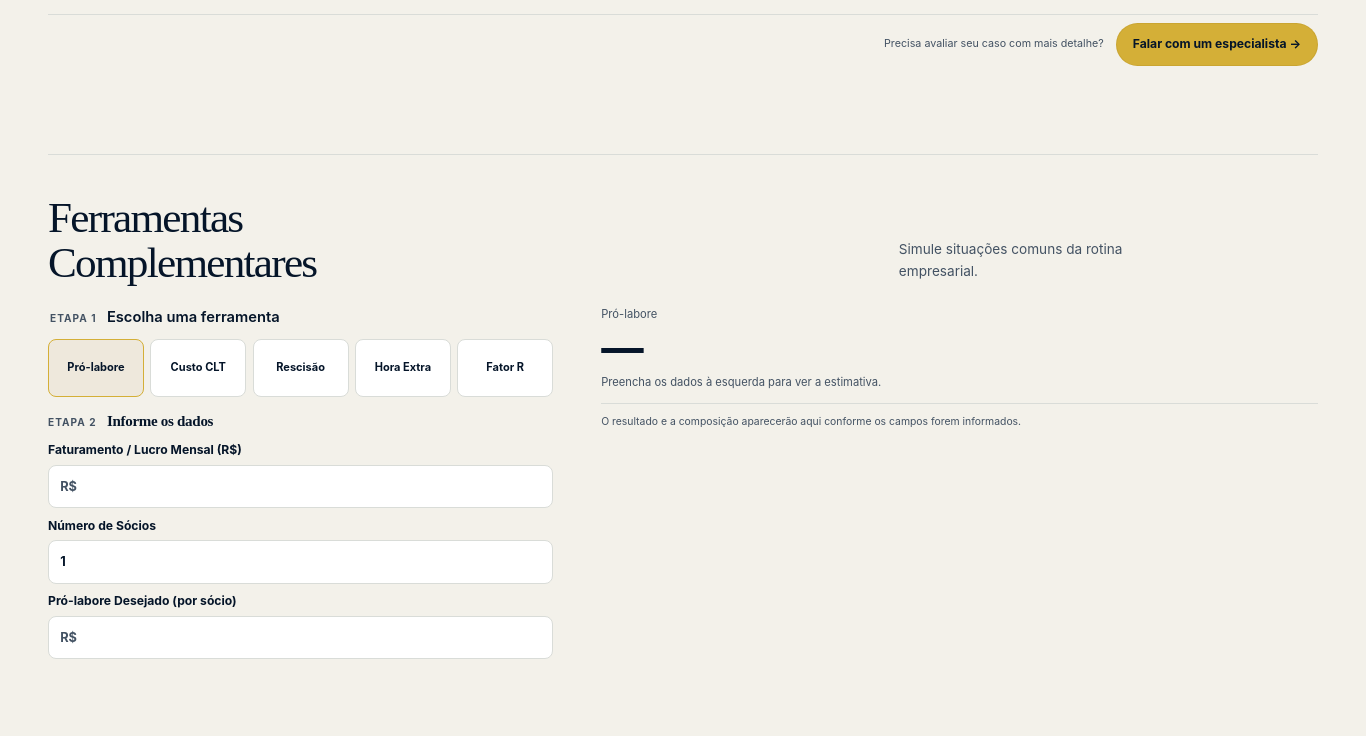
Test: Ferramentas Complementares › não desenha uma composição proporcional quando a folha supera a receita
(page scrolled)
Click the button "Fator R" at coordinates (505, 368), box 457,339 -> 553,397
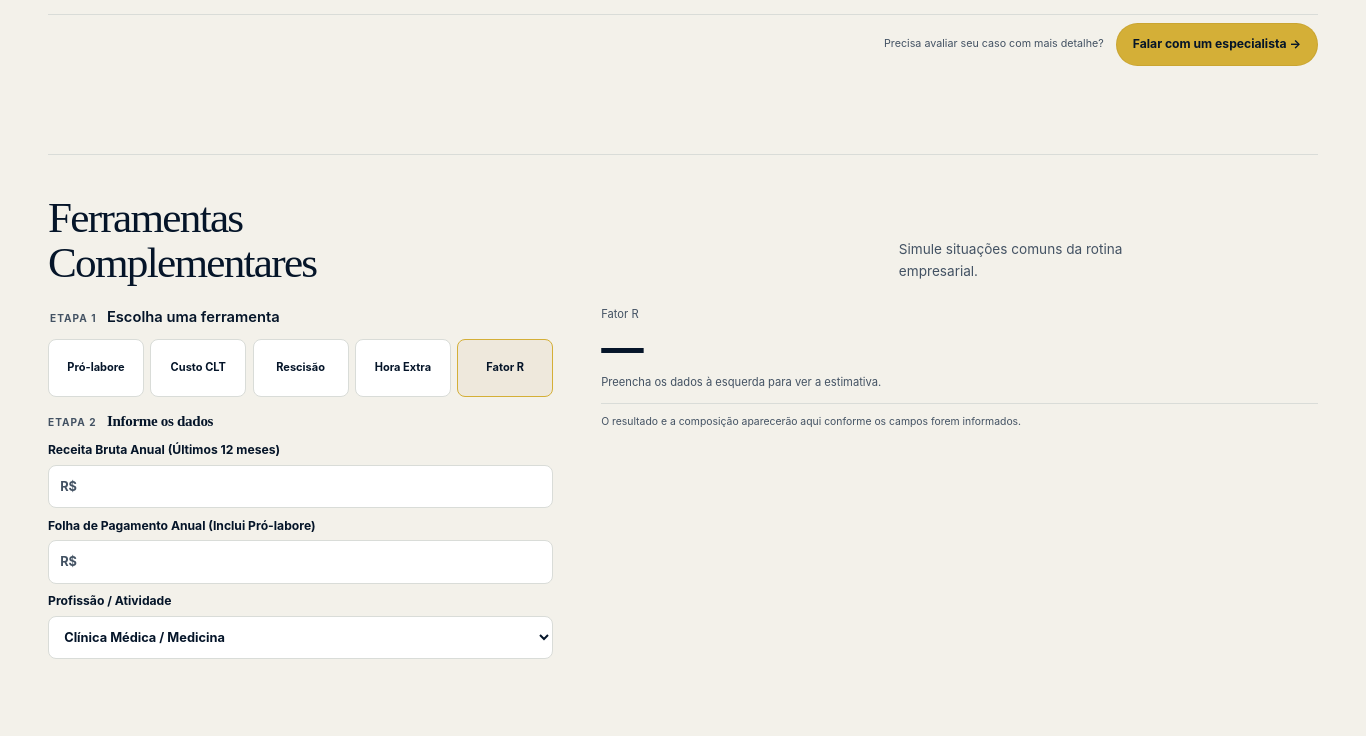
Type "10000000" into the field labelled "Receita Bruta Anual (Últimos 12 meses) R$" at coordinates (315, 486), box 77,466 -> 552,507
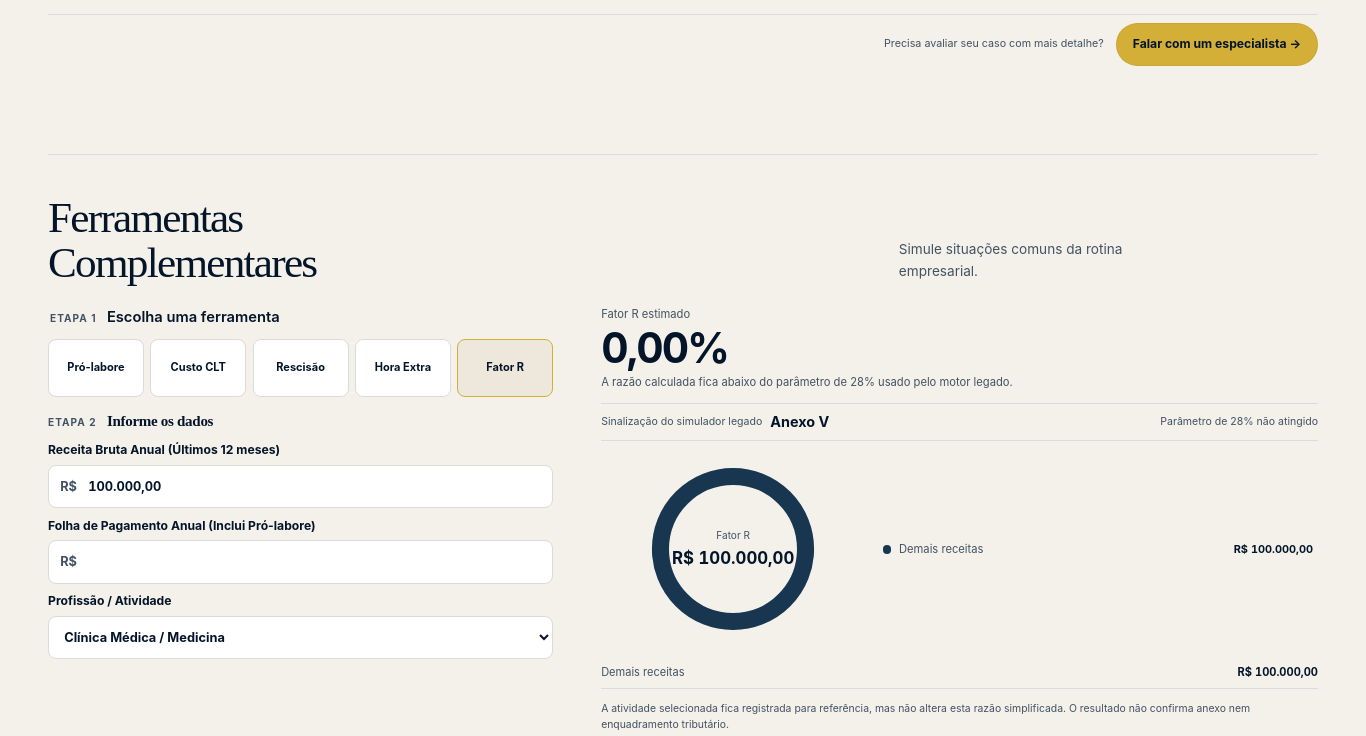
Type "12000000" into the field labelled "Folha de Pagamento Anual (Inclui Pró-labore) R$" at coordinates (315, 562), box 77,542 -> 552,583
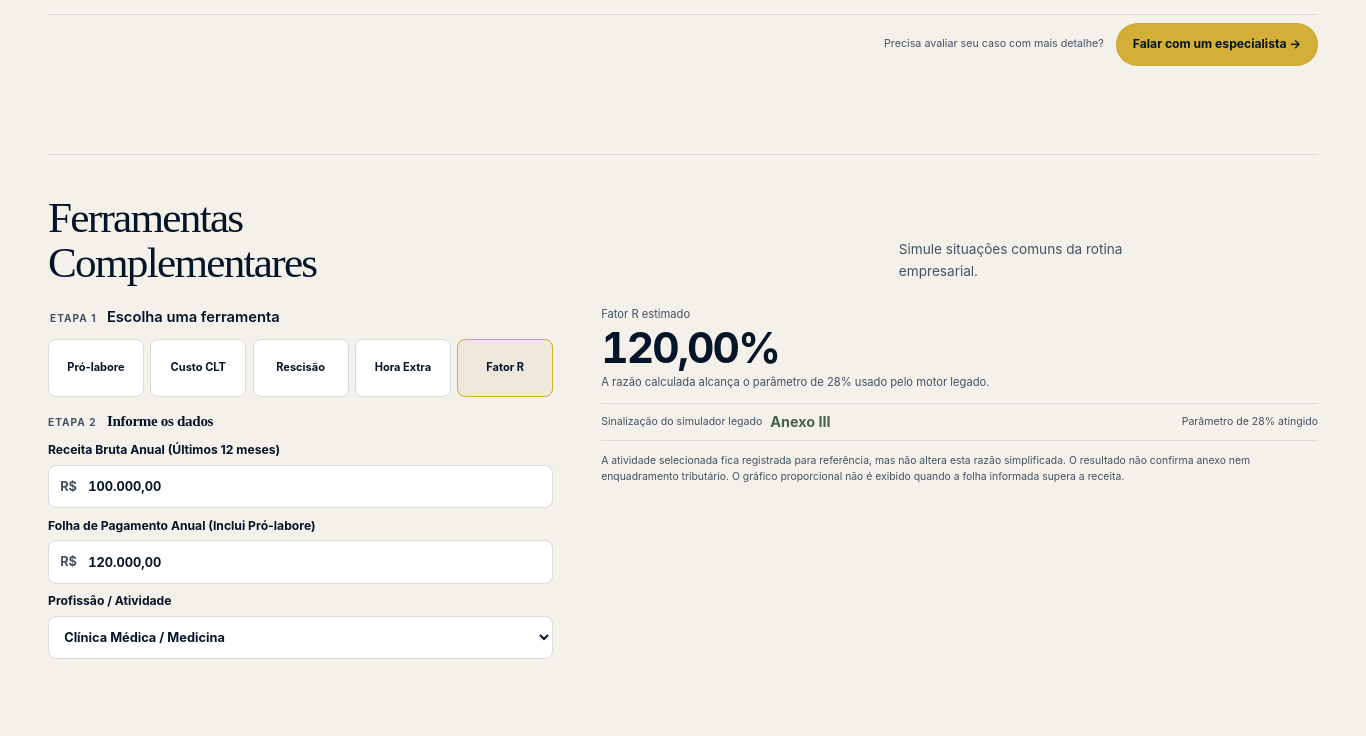
Check: the message shows "120,00%", box 601,322 -> 779,373
Check: the text "gráfico proporcional não é exibido" is shown, box 601,454 -> 1250,483
